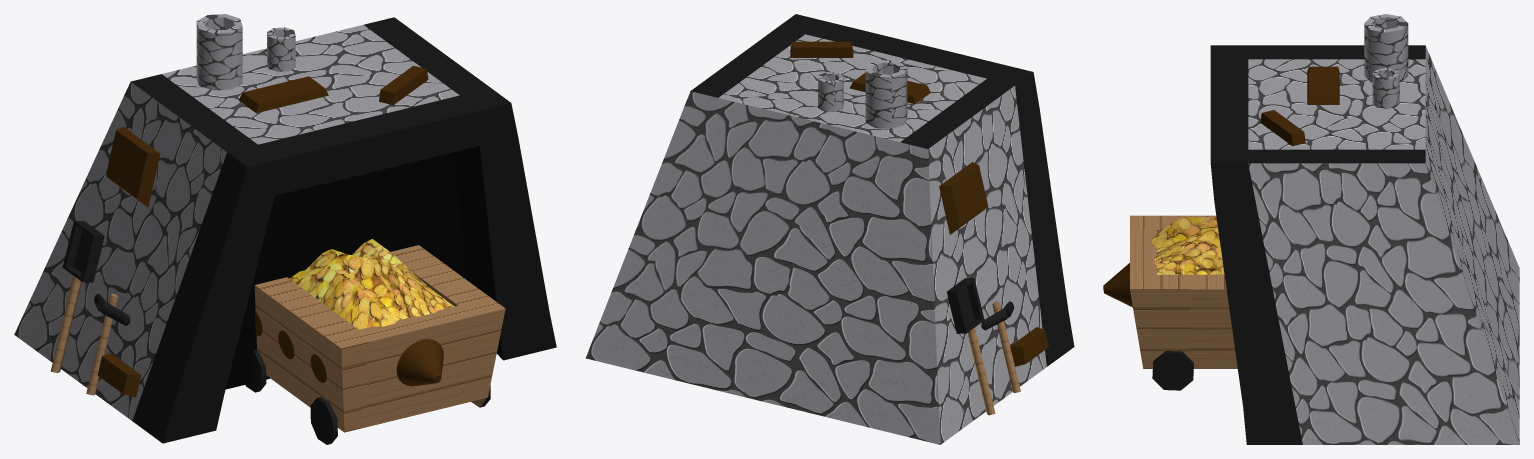
Rendered from minaNvl3.fbx.
3 renders of one model, left to right at view 1: azimuth 30°, elevation 25°; view 2: azimuth 150°, elevation 25°; view 3: azimuth 270°, elevation 25°, orthographic. The views are drawn at different scales.
Parts seen in each view (by area): view 1: MinaNVl1, Box005, Plane001, Cylinder014, Box007, Box010, Cone001, Box021, Cylinder023, Box008, Box012, Cylinder008 (+3 smaller); view 2: MinaNVl1, Cylinder014, Box007, Box021, Box012, Cylinder023, Box008, Cylinder027, Cylinder026, Box010; view 3: MinaNVl1, Box005, Plane001, Cylinder014, Cylinder006, Box010, Cylinder023, Box012, Cone001.
Boxes of the visible parts, bbox=[...] form: MinaNVl1: bbox=[14, 17, 556, 443]; Box005: bbox=[254, 245, 505, 432]; Plane001: bbox=[289, 239, 454, 329]; Cylinder014: bbox=[196, 14, 242, 90]; Box007: bbox=[106, 126, 160, 207]; Box010: bbox=[238, 76, 328, 113]; Cone001: bbox=[396, 339, 443, 386]; Box021: bbox=[62, 220, 104, 282]; Cylinder023: bbox=[267, 27, 295, 71]; Box008: bbox=[97, 353, 141, 397]; Box012: bbox=[379, 65, 428, 105]; Cylinder008: bbox=[310, 397, 337, 444]; MinaNVl1: bbox=[585, 14, 1074, 444]; Cylinder014: bbox=[865, 60, 907, 128]; Box007: bbox=[939, 162, 987, 234]; Box021: bbox=[947, 278, 984, 333]; Box012: bbox=[790, 41, 853, 57]; Cylinder023: bbox=[818, 72, 843, 111]; Box008: bbox=[1010, 327, 1048, 366]; Cylinder027: bbox=[967, 327, 995, 415]; Cylinder026: bbox=[992, 301, 1020, 393]; Box010: bbox=[850, 72, 930, 104]; MinaNVl1: bbox=[1210, 45, 1519, 444]; Box005: bbox=[1130, 215, 1237, 368]; Plane001: bbox=[1152, 216, 1224, 274]; Cylinder014: bbox=[1364, 14, 1408, 82]; Cylinder006: bbox=[1152, 351, 1193, 390]; Box010: bbox=[1307, 66, 1339, 104]; Cylinder023: bbox=[1372, 68, 1399, 108]; Box012: bbox=[1260, 110, 1305, 146]; Cone001: bbox=[1103, 263, 1132, 307].
Size of the model in its own units: 1.55 by 1.5 by 1.21.
Materials: 11 (4 with a texture image).
